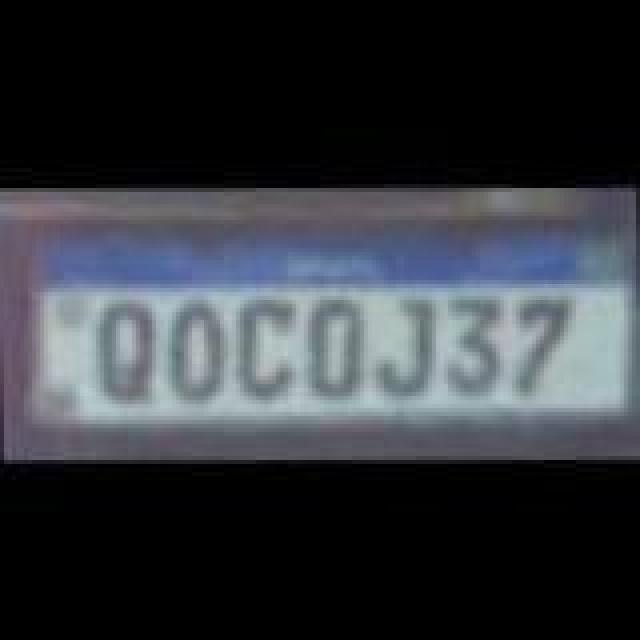3: (450, 296, 510, 396)
7: (514, 290, 574, 394)
C: (234, 294, 294, 402)
D: (312, 296, 368, 400)
J: (374, 294, 442, 394)
O: (158, 294, 226, 398)
Q: (96, 298, 160, 402)
